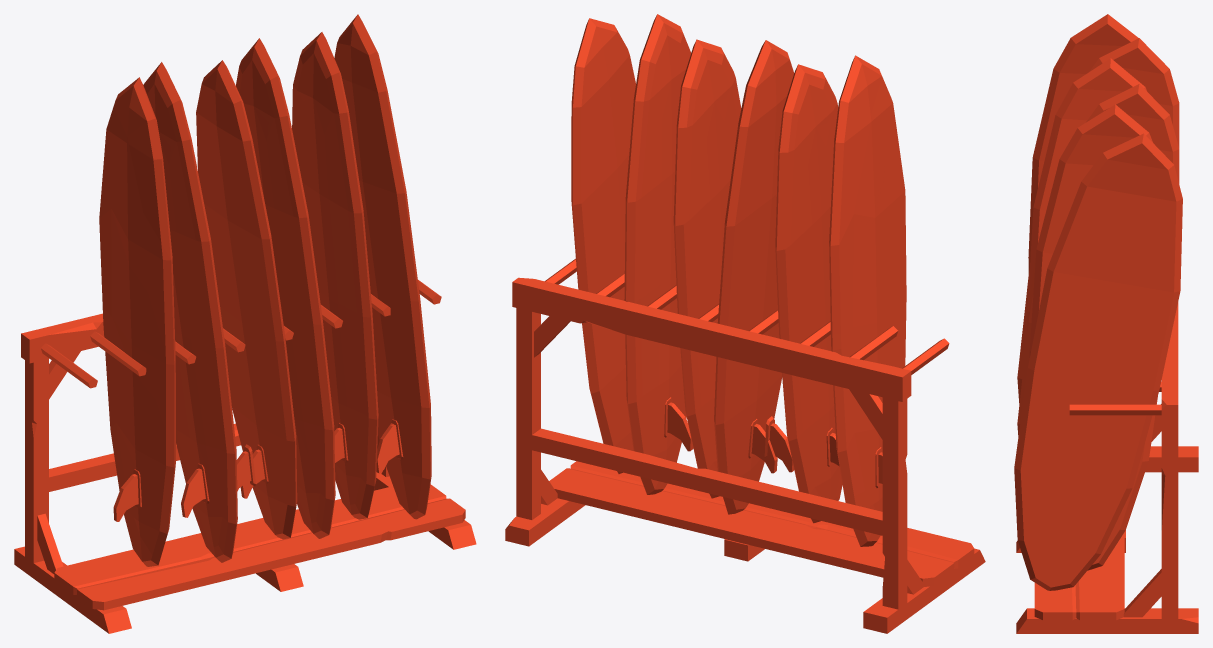
File: SM_Surf_Stand_B_City.fbx
The picture shows the model from 3 angles, left to right: view 1: azimuth 30°, elevation 25°; view 2: azimuth 150°, elevation 25°; view 3: azimuth 270°, elevation 25°; orthographic projection. The views are drawn at different scales.
Parts seen in each view (by area): view 1: SM_Surf_Stand_B_City; view 2: SM_Surf_Stand_B_City; view 3: SM_Surf_Stand_B_City.
Boxes of the visible parts, <box> form: SM_Surf_Stand_B_City: <box>14,14,476,633</box>; SM_Surf_Stand_B_City: <box>505,14,985,633</box>; SM_Surf_Stand_B_City: <box>1014,14,1198,633</box>.
Size of the model in its own units: 2.31 by 2.95 by 1.02.
